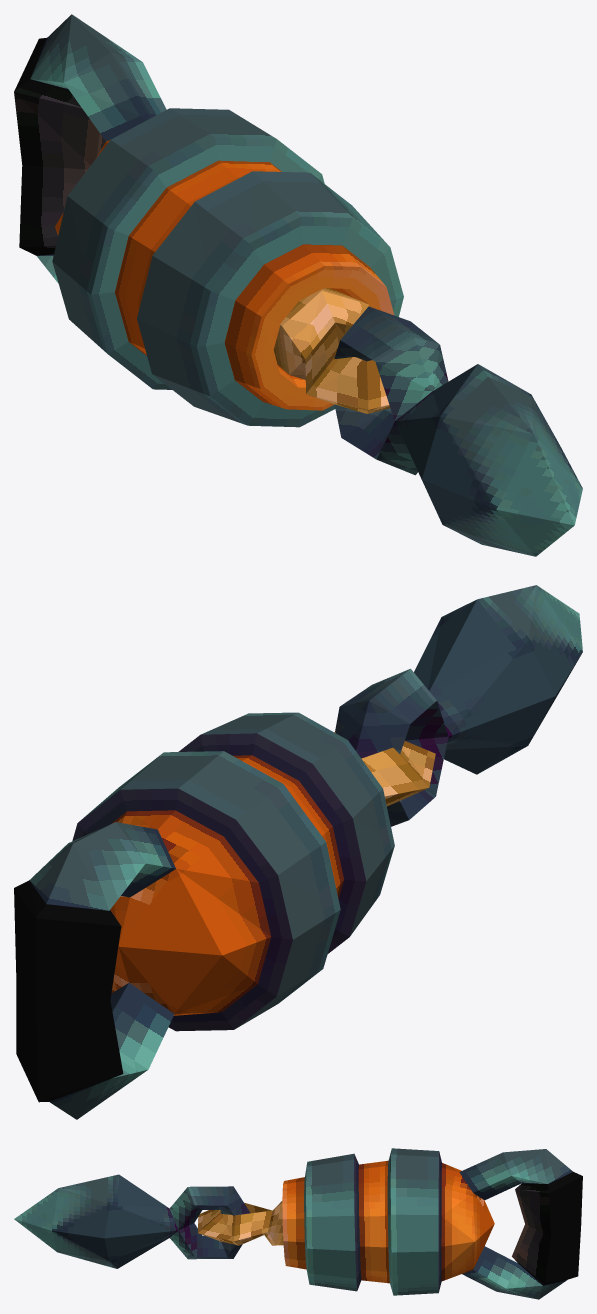
File: Ninja Rope.obj
3 views of the same model, one above another, from view 1: azimuth 30°, elevation 25°; view 2: azimuth 150°, elevation 25°; view 3: azimuth 270°, elevation 25° (orthographic). The views are drawn at different scales.
Parts seen in each view (by area): view 1: Inst3D_RefRep.288; view 2: Inst3D_RefRep.288; view 3: Inst3D_RefRep.288.
Part boxes in pixels (x1=…): Inst3D_RefRep.288: x1=14, y1=14, x2=582, y2=556; Inst3D_RefRep.288: x1=14, y1=585, x2=582, y2=1119; Inst3D_RefRep.288: x1=14, y1=1148, x2=582, y2=1299.
Size of the model in its own units: 0.9873 by 1.1 by 3.79.
